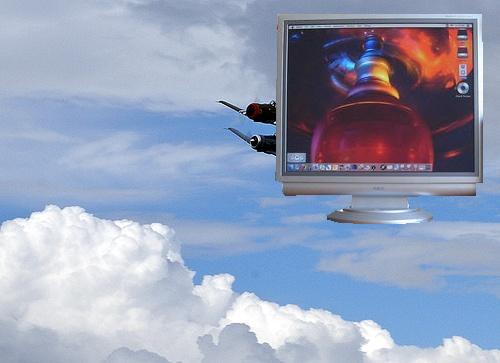tampered: (276, 15, 483, 224)
